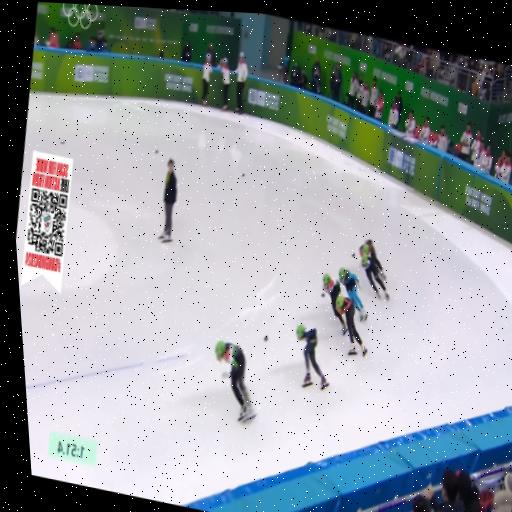Skater: (214, 341, 255, 420), (296, 324, 327, 389), (358, 240, 389, 300), (335, 296, 366, 356), (338, 267, 367, 321), (322, 274, 346, 335), (358, 239, 385, 281)
